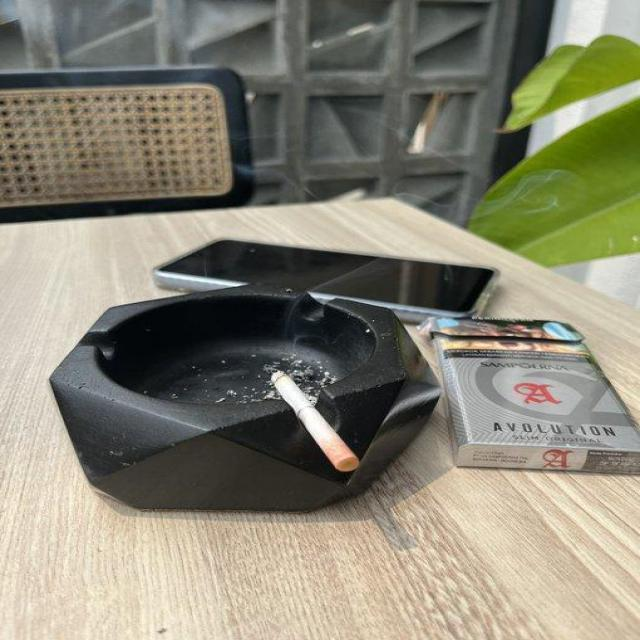rokok: (266, 363, 362, 473)
